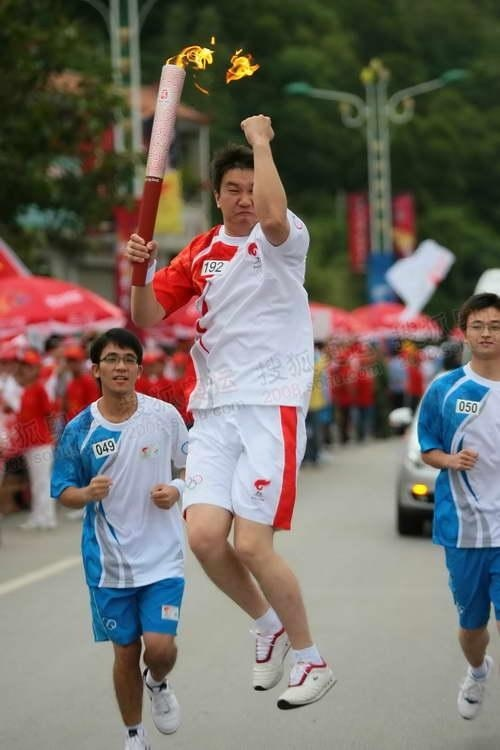fire: (163, 36, 259, 91)
